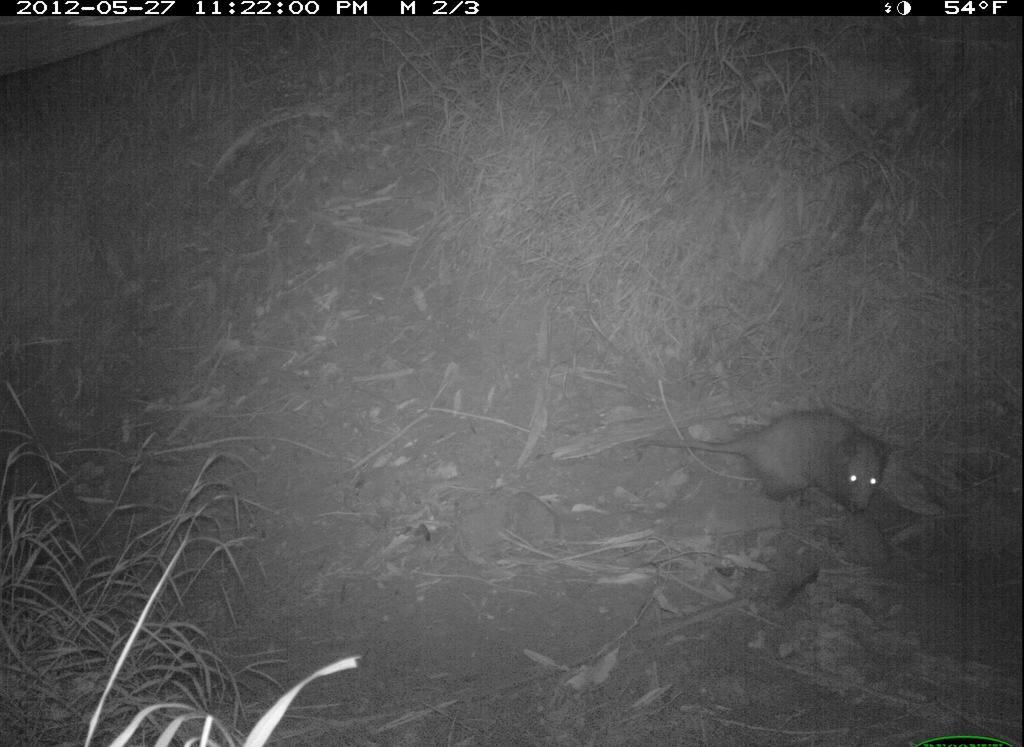opossum: (651, 402, 920, 523)
